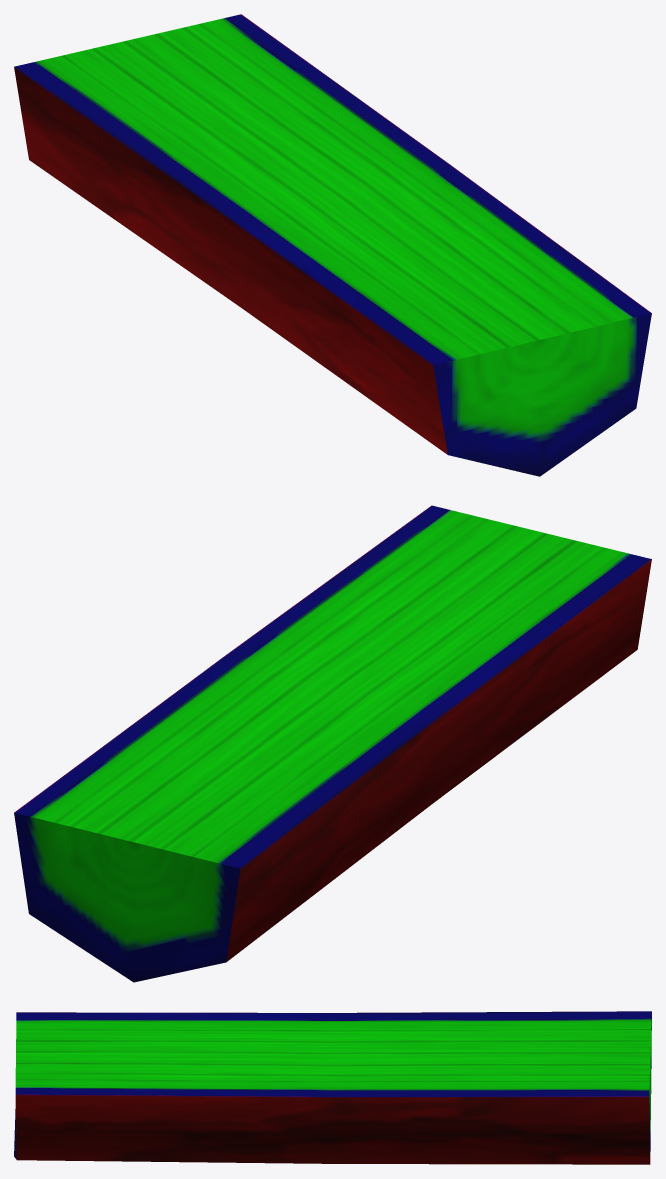
The model's file is Firewood02.fbx.
3 views of the same model, one above another, from view 1: azimuth 30°, elevation 25°; view 2: azimuth 150°, elevation 25°; view 3: azimuth 270°, elevation 25° (orthographic). The views are drawn at different scales.
Visible parts, largest first — view 1: Firewood02_LOD0; view 2: Firewood02_LOD0; view 3: Firewood02_LOD0.
Boxes of the visible parts, bbox=[...] form: Firewood02_LOD0: bbox=[14, 14, 651, 476]; Firewood02_LOD0: bbox=[14, 505, 651, 982]; Firewood02_LOD0: bbox=[14, 1011, 651, 1164].
Size of what is drawn, in the model's own units: 0.1023 by 0.0613 by 0.3228.
